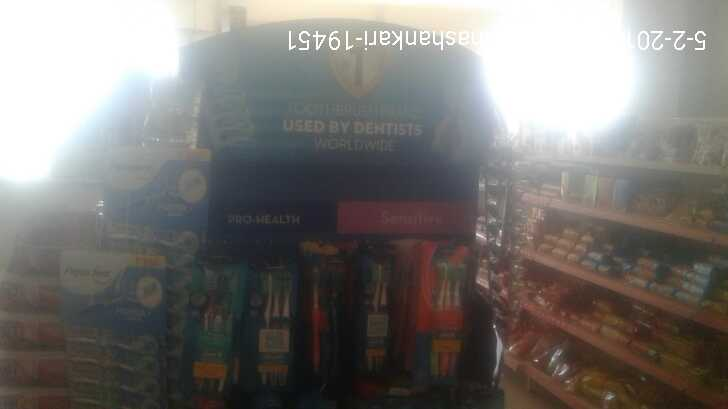oralb: (406, 241, 468, 384), (249, 259, 302, 390), (187, 260, 235, 387), (355, 251, 396, 385), (296, 263, 340, 375)
